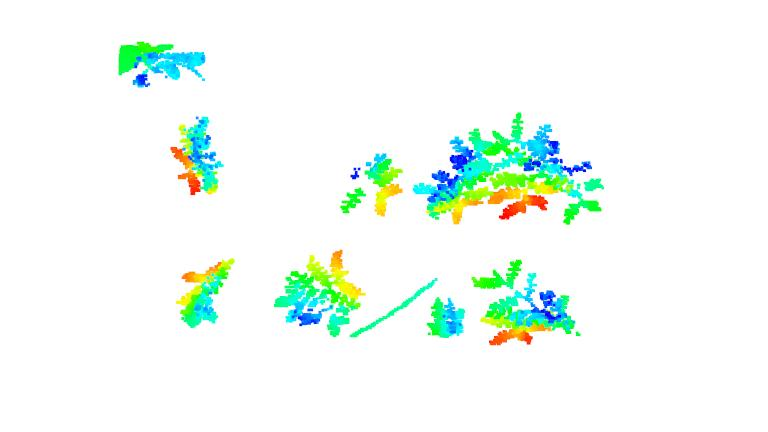chickpea: (490, 112, 604, 225), (471, 258, 579, 348), (274, 249, 366, 337), (412, 127, 491, 225), (335, 152, 404, 219), (170, 115, 225, 195), (176, 256, 236, 329), (425, 297, 466, 341)
